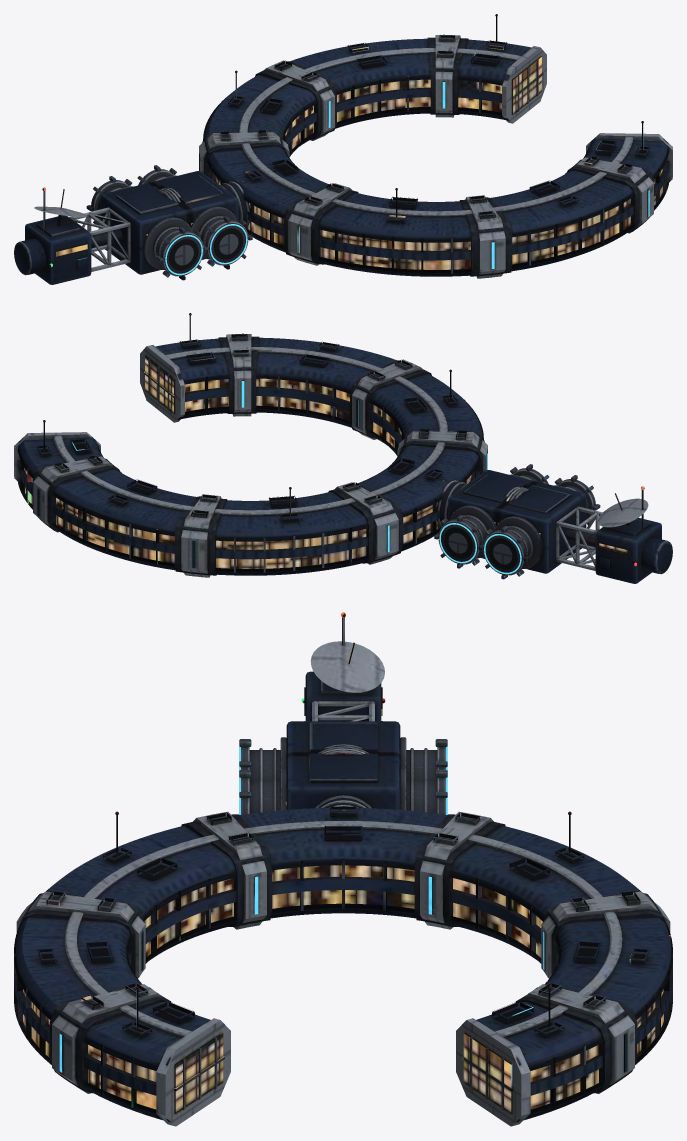
Rendered from station-mars-base.glb.
The picture shows the model from 3 angles, top to bottom: view 1: azimuth 30°, elevation 25°; view 2: azimuth 150°, elevation 25°; view 3: azimuth 270°, elevation 25°; orthographic projection. The views are drawn at different scales.
Parts seen in each view (by area): view 1: station, berth_4, berth_2, berth_3; view 2: station, berth_3, berth_1, berth_4; view 3: station, berth_1, berth_2, berth_3, berth_4.
Part boxes in pixels (<box>): station: <box>14,14,672,284</box>; berth_4: <box>143,217,208,280</box>; berth_2: <box>190,206,252,269</box>; berth_3: <box>86,176,132,225</box>; station: <box>14,313,672,583</box>; berth_3: <box>478,516,543,579</box>; berth_1: <box>434,505,496,568</box>; berth_4: <box>554,475,600,525</box>; station: <box>14,612,672,1126</box>; berth_1: <box>400,768,447,814</box>; berth_2: <box>239,768,286,814</box>; berth_3: <box>400,737,447,780</box>; berth_4: <box>239,737,286,780</box>.
Bounding box in the file's own units: 1 × 0.1585 × 0.6876.
Materials: 2 (2 with a texture image).
